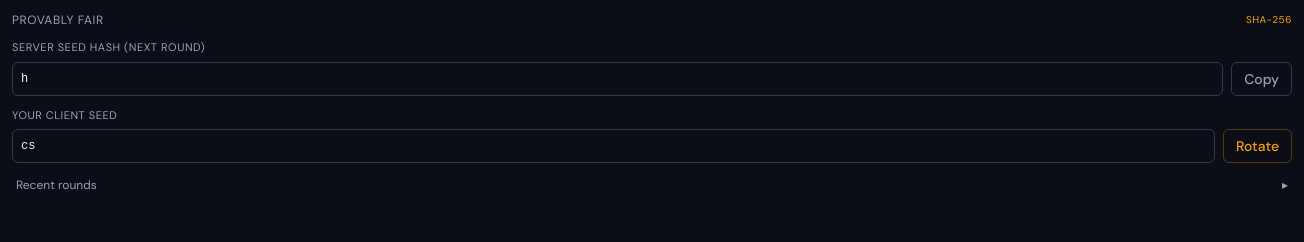
Test: ProvablyFairPanel › shows empty state when history is empty
Expand the collapsed section
Click the button "Recent rounds ▸": (56, 185) [12,175,1292,195]
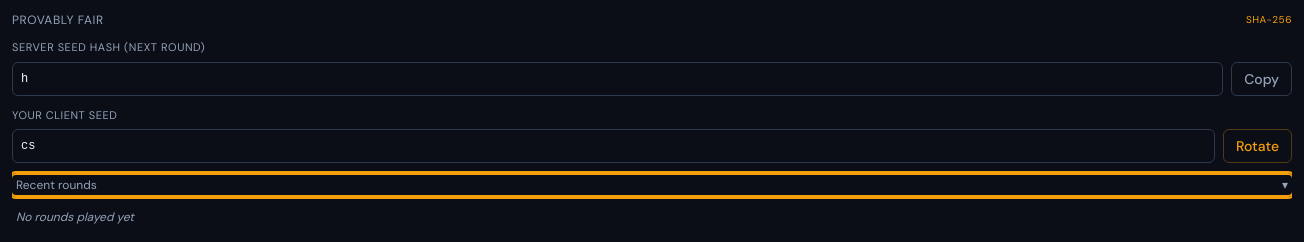
Expected: the text "No rounds played yet" is shown, [16,209,134,225]
